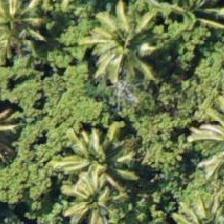coconut_tree: (76, 5, 166, 95), (54, 116, 144, 206), (0, 0, 56, 71), (160, 0, 223, 59)
